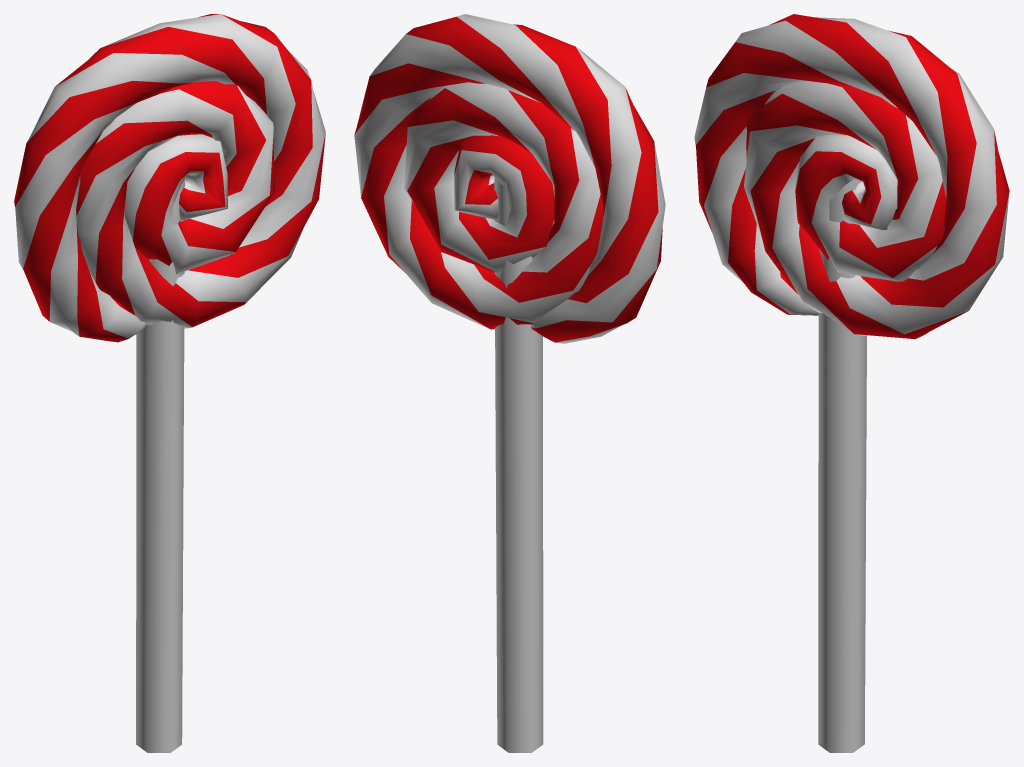
Rendered from Lollipop_02.fbx.
3 views of the same model, side by side, from view 1: azimuth 30°, elevation 25°; view 2: azimuth 150°, elevation 25°; view 3: azimuth 330°, elevation 25° (orthographic).
Visible parts, largest first — view 1: Lollipop_02; view 2: Lollipop_02; view 3: Lollipop_02.
Boxes of the visible parts, x1,y1,x2,y2 form: Lollipop_02: (14, 14, 325, 752); Lollipop_02: (354, 14, 665, 752); Lollipop_02: (694, 14, 1009, 752).
Size of the model in its own units: 0.9726 by 2.2 by 0.1983.
